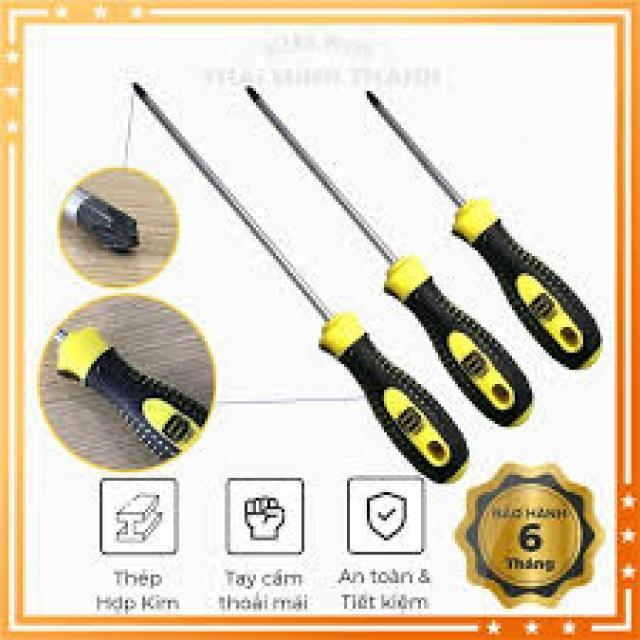screwdriver: (127, 75, 470, 488), (243, 82, 545, 432), (364, 86, 606, 372)
